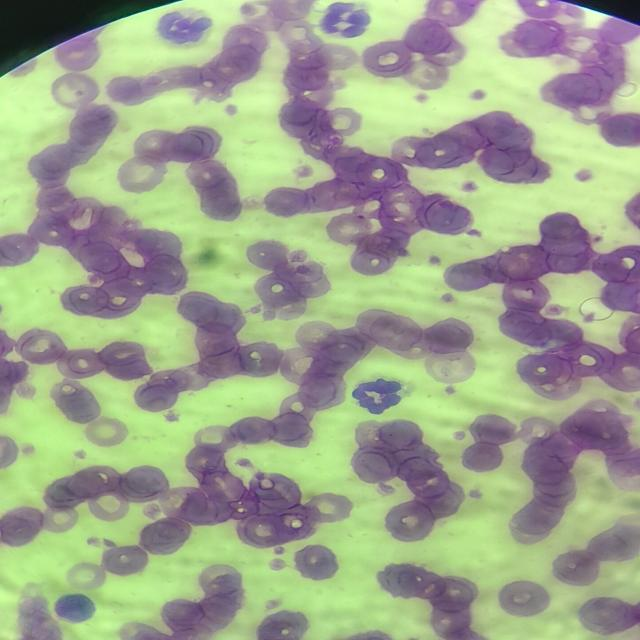Neutrofilo: (348, 375, 418, 418), (152, 6, 216, 48), (318, 2, 373, 40)
